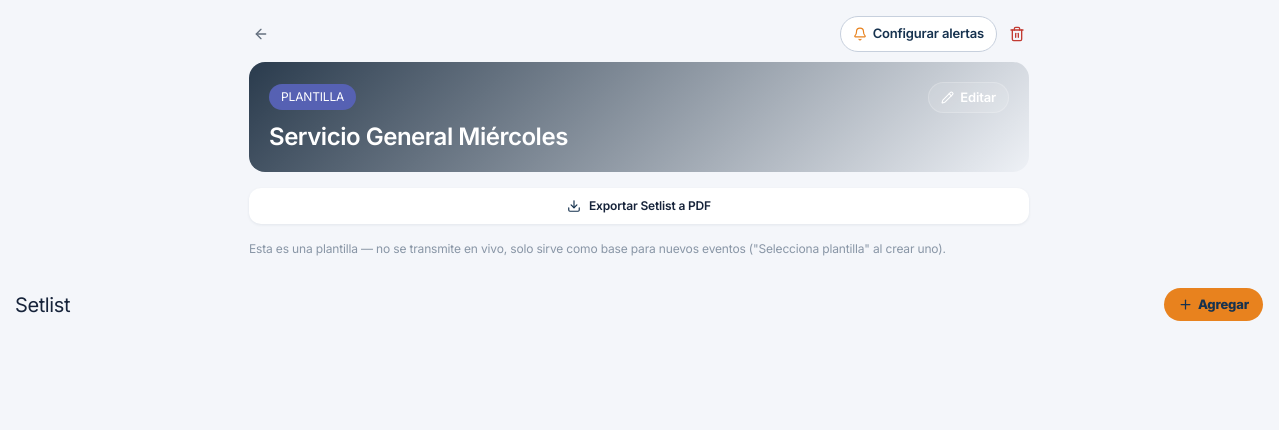
Test: Guardar plantilla › Cancelar cierra sin guardar
Click the button "Editar": (969, 97) [928,82,1009,113]
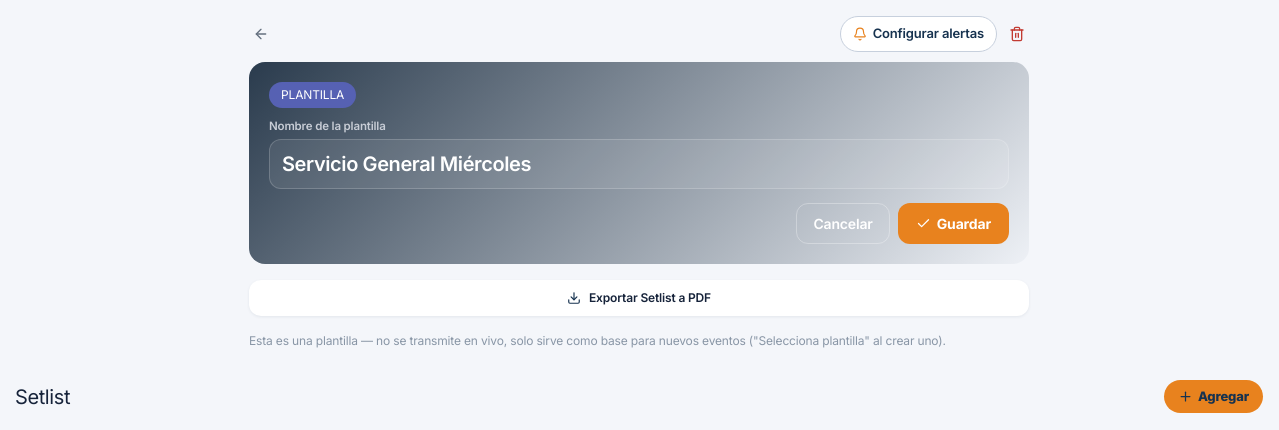
Click the button "Cancelar": (843, 223) [796,203,890,244]
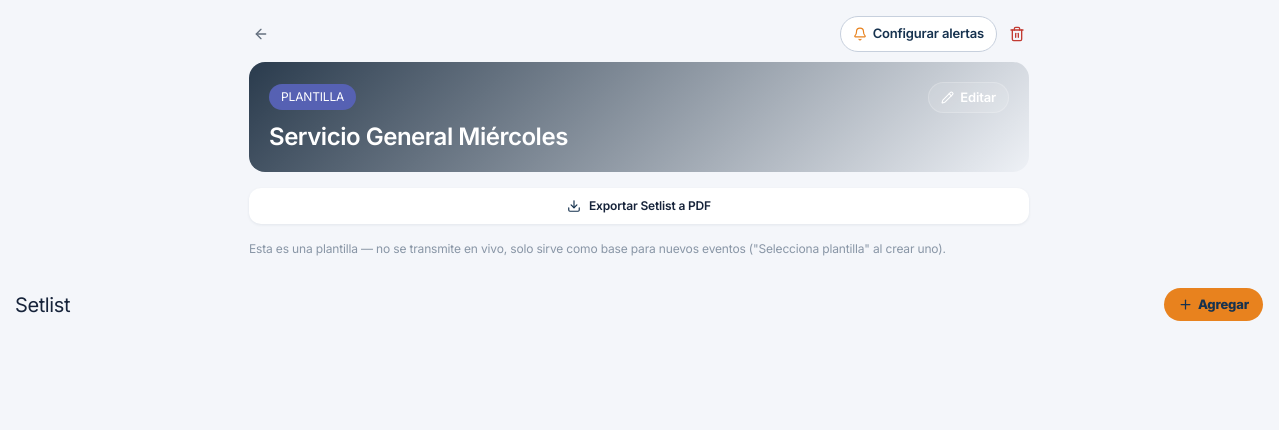
Expected: the label labelled "Nombre de la plantilla" is gone
